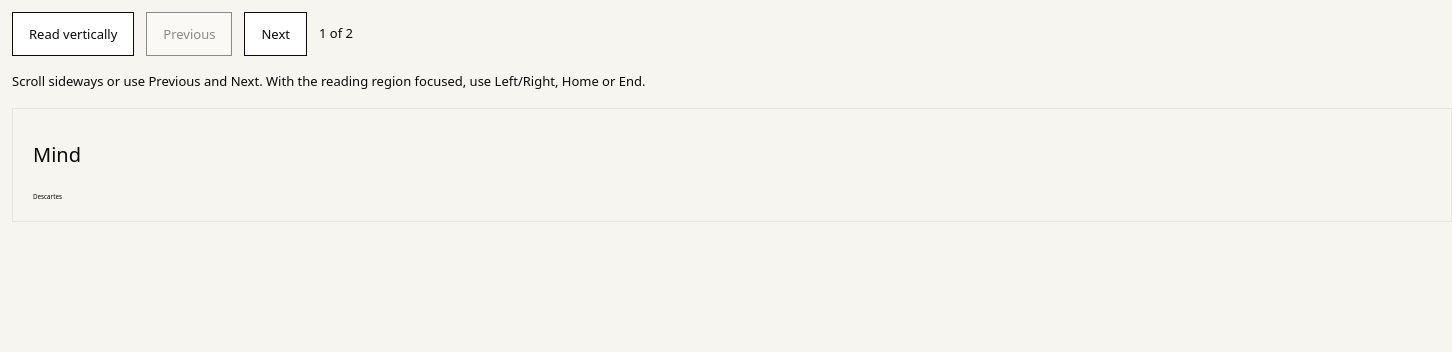
BreakoutRail review prototype › offers a vertical reading option without removing text
What coordinates should you click on to do the following:
click the button "Read vertically"
I would click on:
 (73, 34)
Its box is [12,12,134,56].
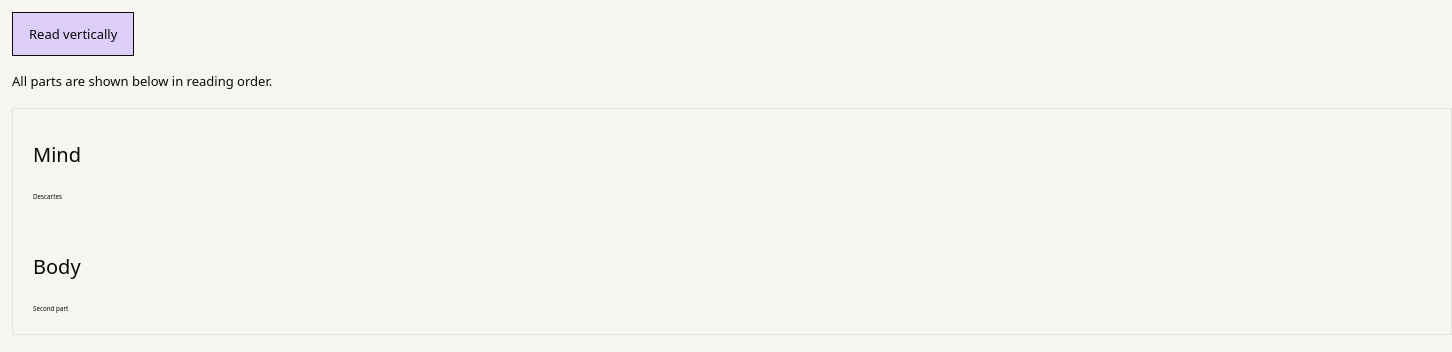
expect the number of buttons is 1: met, box [12,12,134,56]
